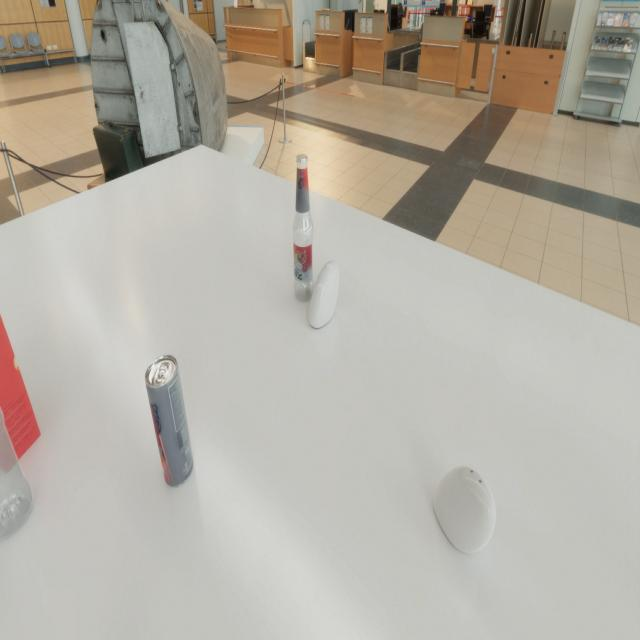Bottle: (292, 154, 315, 302)
Rita_zero_sugar: (144, 354, 193, 488)
Salt: (433, 465, 496, 553), (308, 260, 339, 328)
